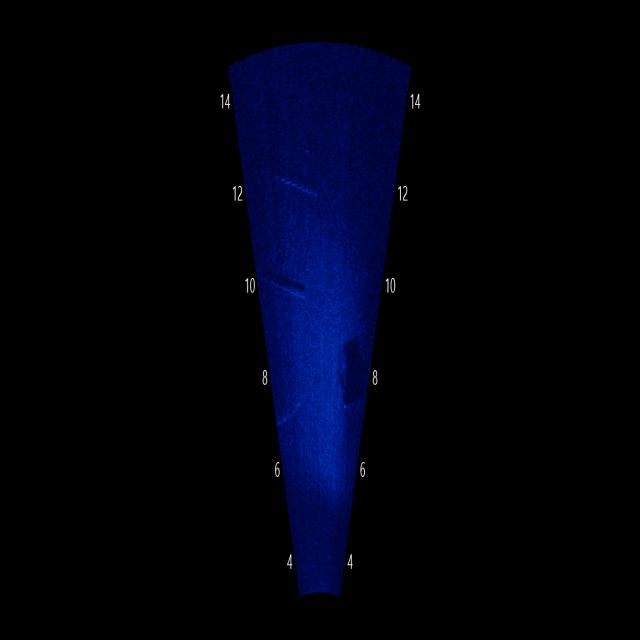square: (275, 145, 318, 312)
